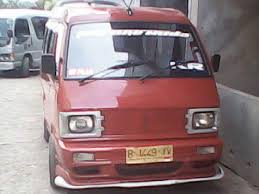plate: (126, 144, 172, 164)
